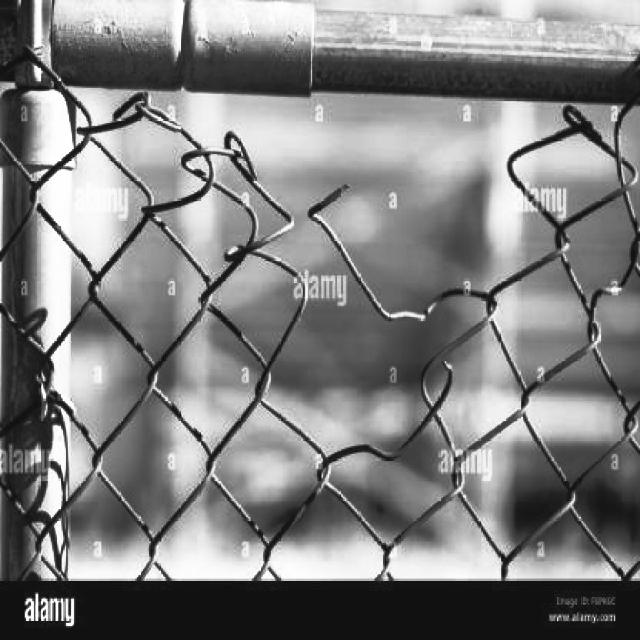anomaly-fence: (6, 14, 640, 498)
